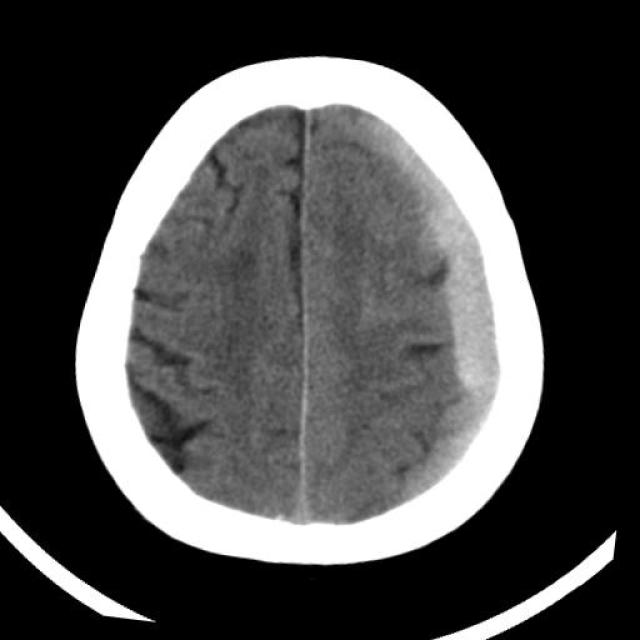Subdural: (300, 97, 594, 539)
